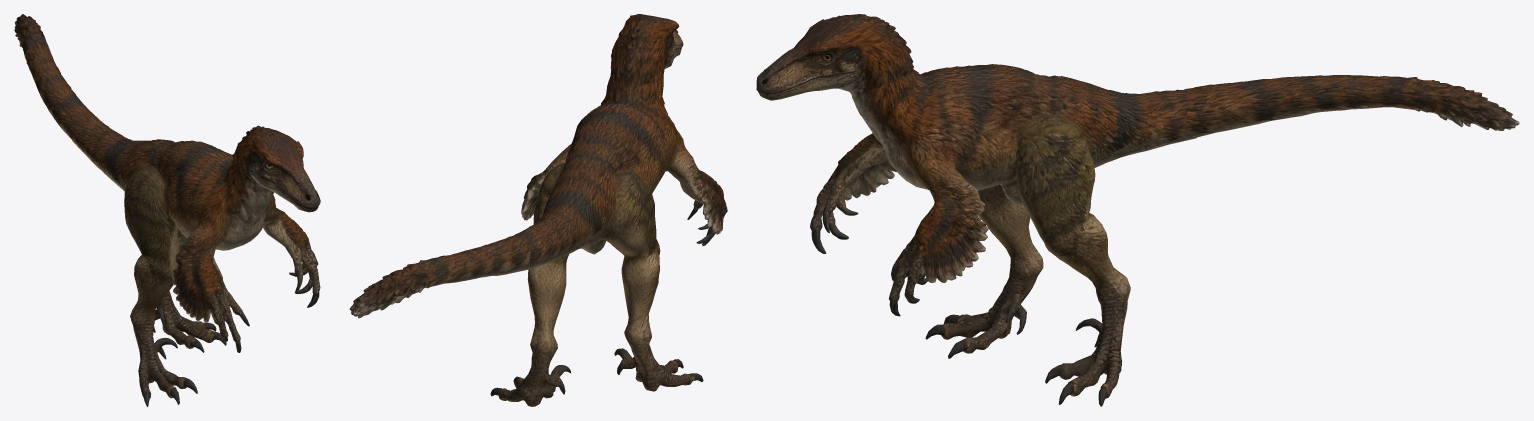
Rendered from raptor.glb.
3 views of the same model, side by side, from view 1: azimuth 30°, elevation 25°; view 2: azimuth 150°, elevation 25°; view 3: azimuth 270°, elevation 25° (orthographic). The views are drawn at different scales.
Parts seen in each view (by area): view 1: dino; view 2: dino; view 3: dino.
Boxes of the visible parts, <box> form: dino: <box>14,14,320,406</box>; dino: <box>349,14,727,406</box>; dino: <box>756,14,1519,406</box>.
Size of the model in its own units: 1.09 by 1.85 by 3.5.
1 material, 1 textured.
